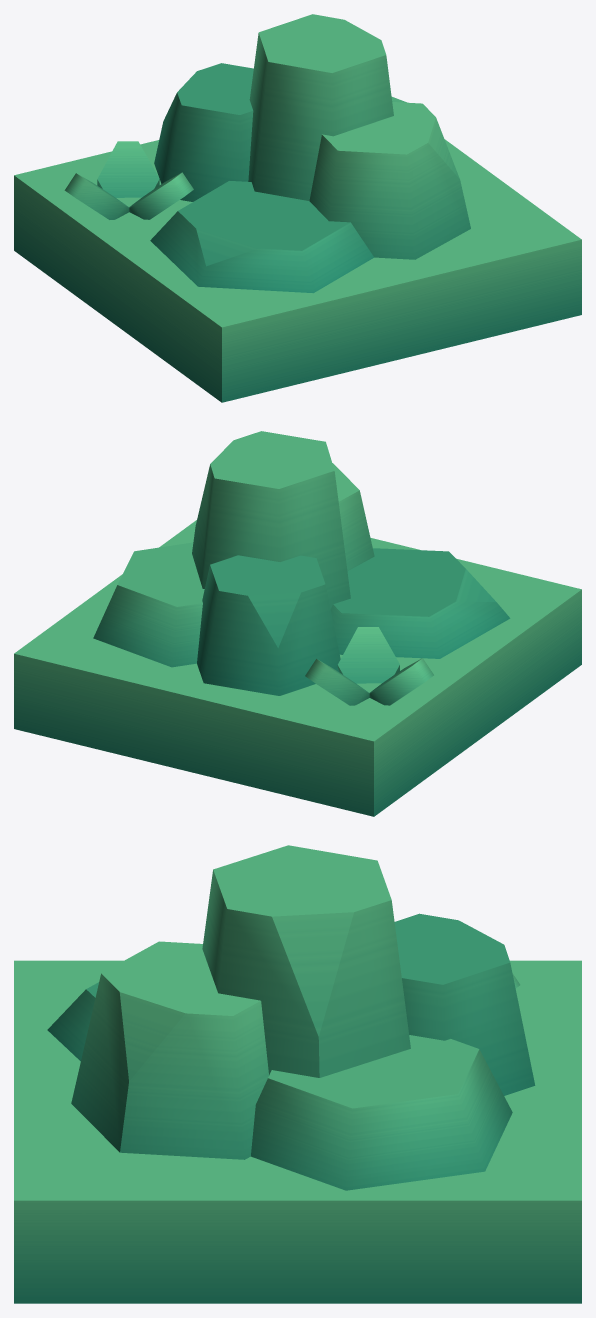
The model's file is tile-hill.fbx.
The picture shows the model from 3 angles, top to bottom: view 1: azimuth 30°, elevation 25°; view 2: azimuth 150°, elevation 25°; view 3: azimuth 270°, elevation 25°; orthographic projection. The views are drawn at different scales.
Parts seen in each view (by area): view 1: tile-hill; view 2: tile-hill; view 3: tile-hill.
Part boxes in pixels (x1,y1,x2,y2): tile-hill: [14, 14, 581, 402]; tile-hill: [14, 431, 581, 816]; tile-hill: [14, 845, 581, 1303].
Bounding box in the file's own units: 100 × 61.45 × 100.
